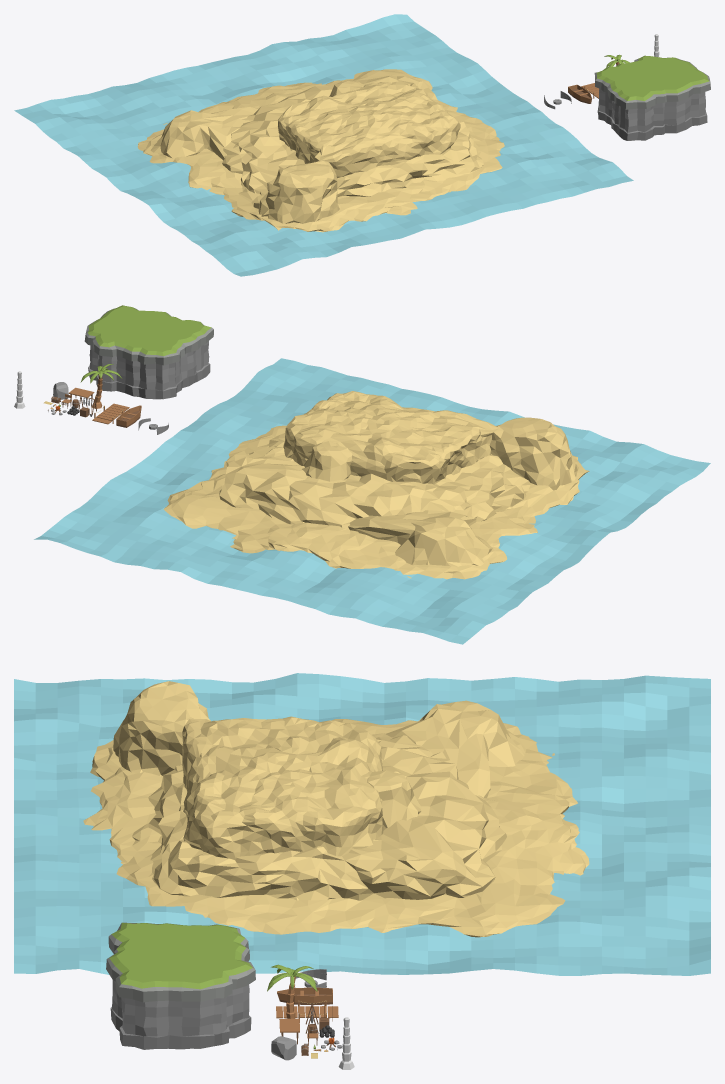
The model's file is Full asset environment.fbx.
3 renders of one model, top to bottom at view 1: azimuth 30°, elevation 25°; view 2: azimuth 150°, elevation 25°; view 3: azimuth 270°, elevation 25°, orthographic. The views are drawn at different scales.
Visible parts, largest first — view 1: Mare, Sabbia top, Sabbia bot, Sabbia mid, Cliff, Retro, Frontale; view 2: Mare, Sabbia mid, Sabbia bot, Sabbia top, Cliff, Frontale, Retro, Icosphere; view 3: Mare, Sabbia bot, Sabbia mid, Sabbia top, Cliff, Frontale, Retro, Icosphere, Tronco, Barca, Ponte.
Part boxes in pixels (x1,y1,x2,y2): Mare: (14, 14, 633, 276); Sabbia top: (278, 82, 460, 178); Sabbia bot: (137, 69, 504, 232); Sabbia mid: (222, 76, 483, 196); Cliff: (594, 55, 710, 140); Retro: (253, 160, 340, 223); Frontale: (150, 107, 258, 160); Mare: (34, 358, 710, 644); Sabbia mid: (219, 434, 530, 529); Sabbia bot: (163, 425, 589, 579); Sabbia top: (283, 391, 499, 484); Cliff: (84, 305, 213, 399); Frontale: (348, 510, 492, 566); Retro: (489, 417, 578, 490); Icosphere: (302, 441, 352, 481); Mare: (14, 673, 710, 975); Sabbia bot: (83, 717, 589, 937); Sabbia mid: (148, 733, 506, 900); Sabbia top: (182, 716, 383, 859); Cliff: (106, 922, 255, 1049); Frontale: (386, 700, 524, 798); Retro: (113, 681, 210, 776); Icosphere: (367, 770, 421, 827); Tronco: (267, 964, 317, 1018); Barca: (277, 987, 332, 1005); Ponte: (276, 1006, 338, 1018).
Bounding box in the file's own units: 73.05 × 54.4 × 8.02.
